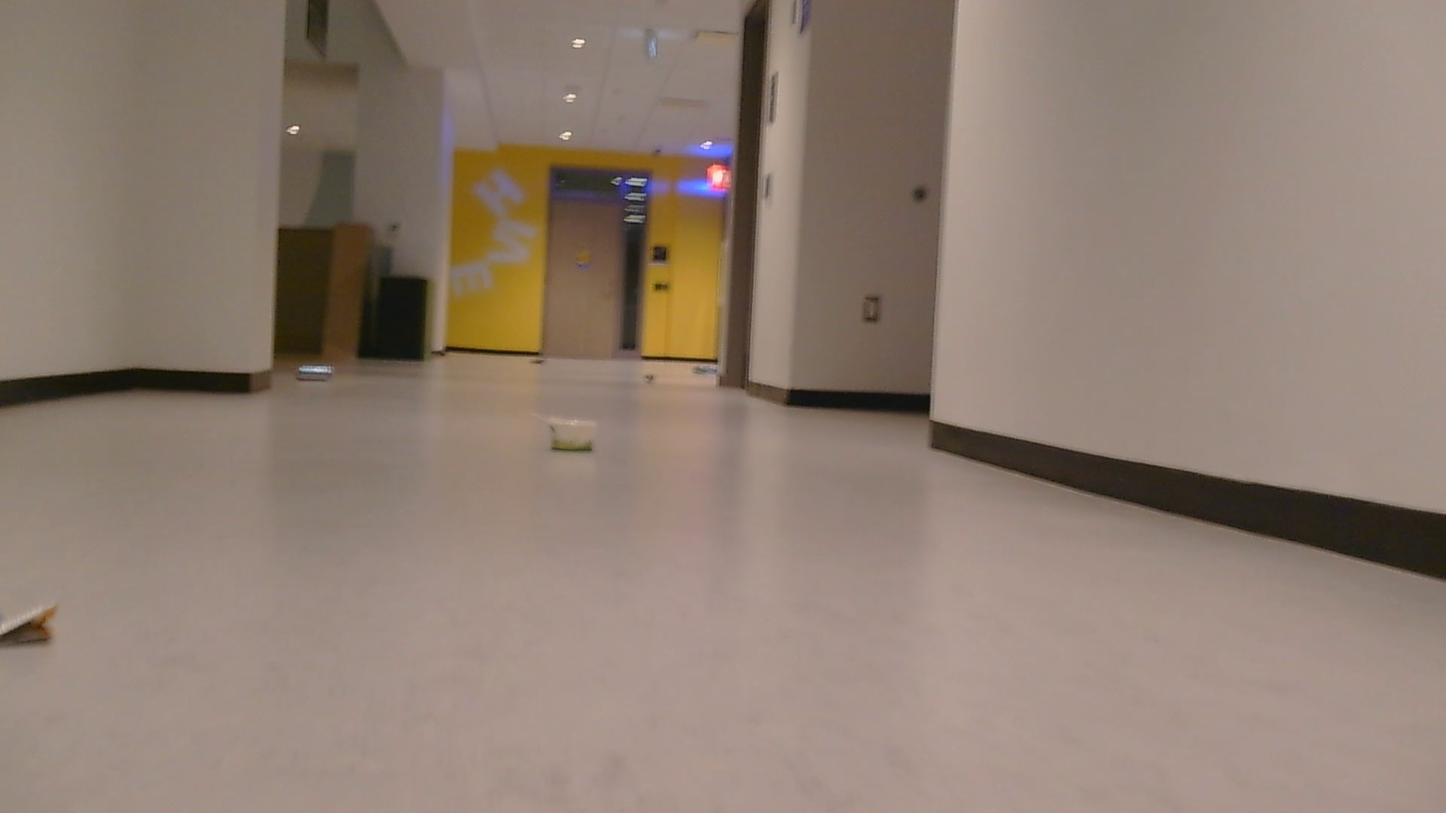can: (568, 430, 569, 431)
carton: (532, 403, 600, 460), (0, 605, 64, 651), (297, 361, 337, 390), (690, 358, 728, 383), (527, 349, 557, 370), (645, 370, 664, 393)
